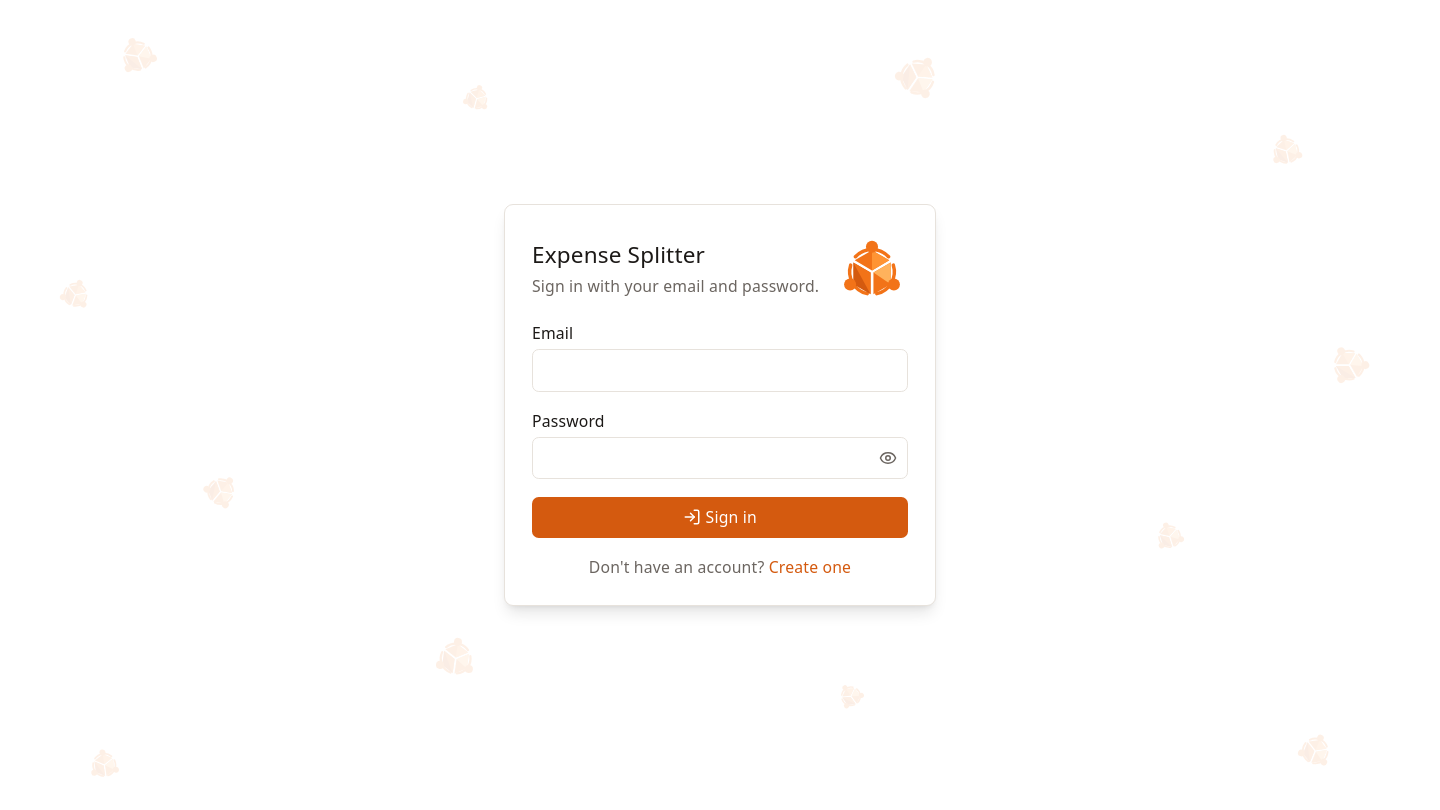
Scenario: LoginPage › shows a generic error when login fails for a reason other than bad credentials
Type "utkarsh@example.com" into the field labelled "Email" at (720, 370), box [532,349,908,392]
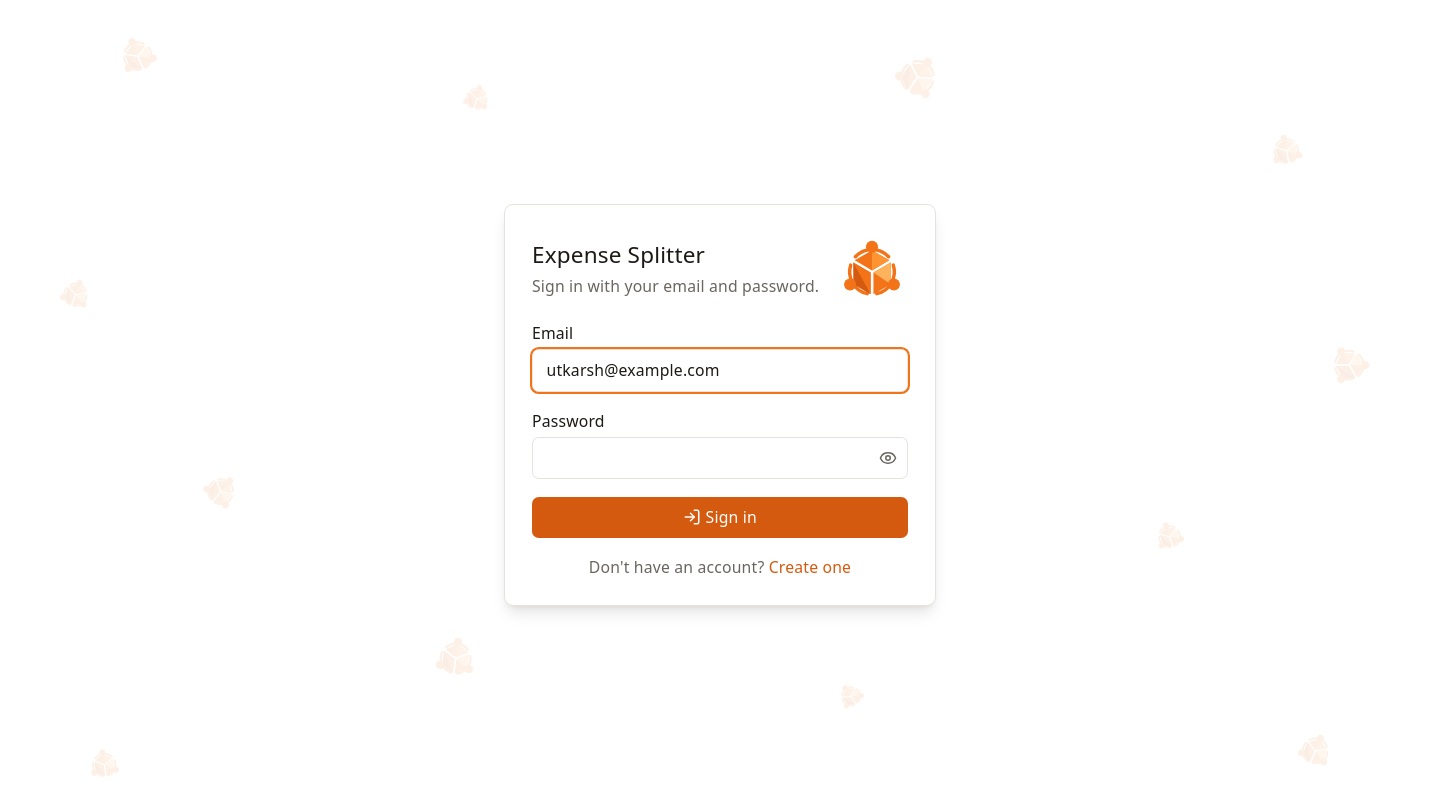
Type "correct-horse-battery-staple" into the password field labelled "Password" at (720, 458), box [532,436,908,479]
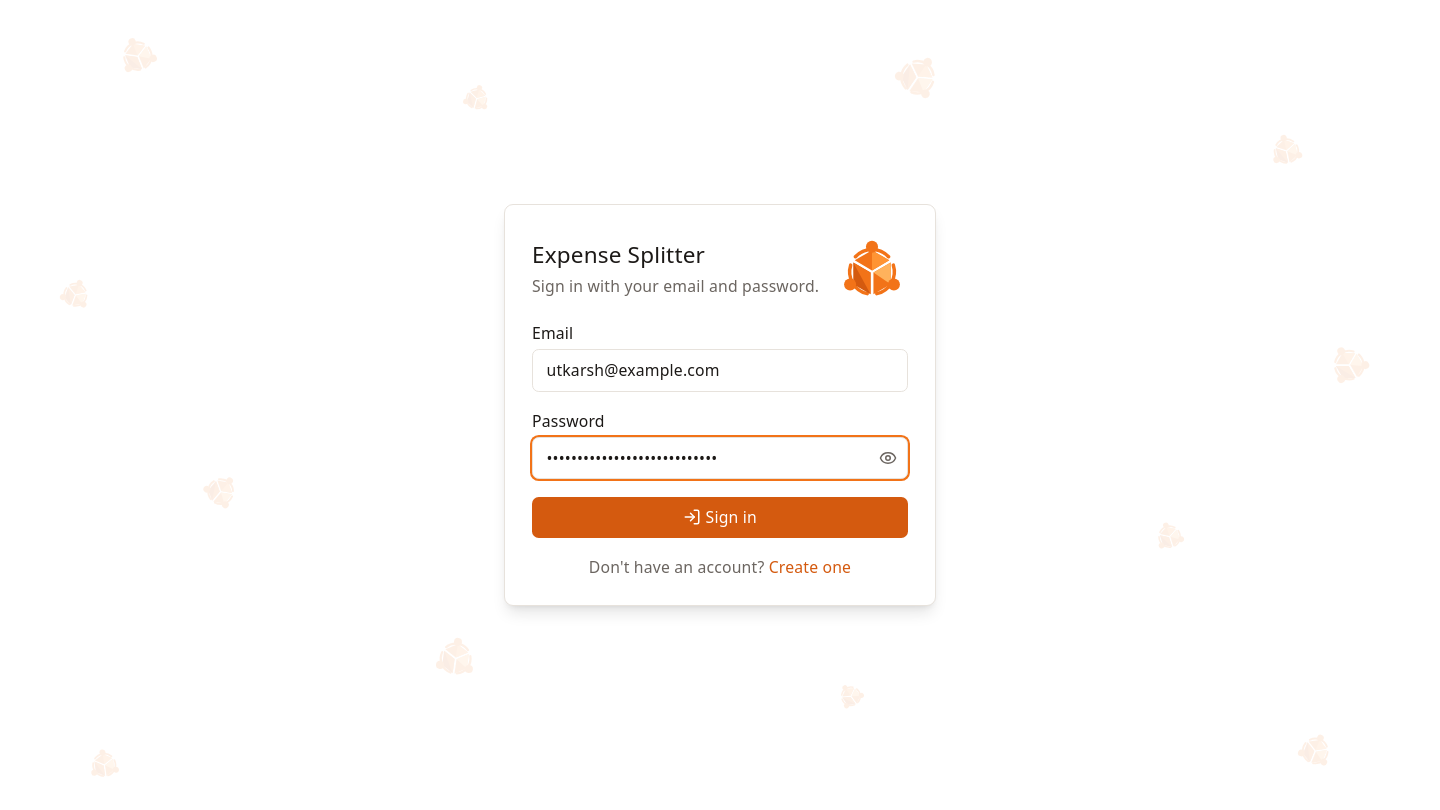
Click the button "Sign in" at (720, 517), box [532,497,908,538]
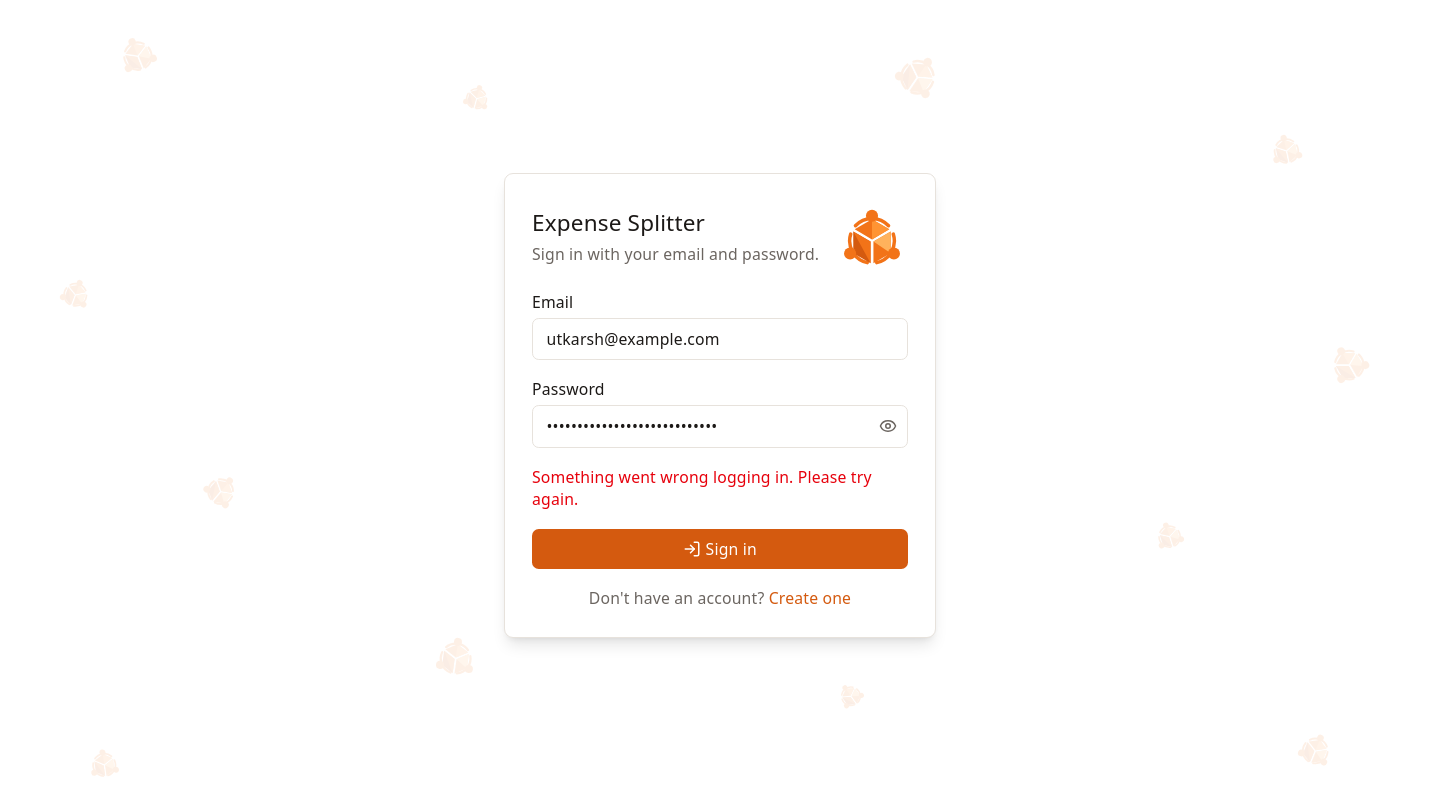
Now the text "Something went wrong logging in. Please try again." is shown, box [532,466,908,510]
